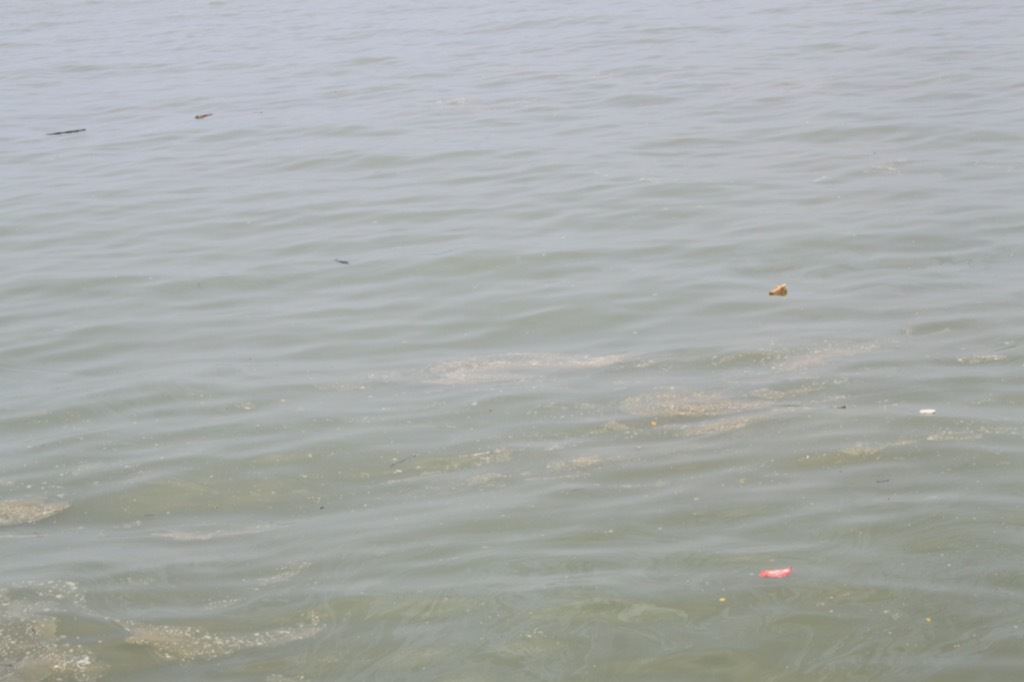organic: (36, 121, 101, 144), (376, 446, 430, 472), (322, 249, 359, 272), (186, 103, 223, 126), (869, 469, 899, 492), (310, 497, 335, 519), (828, 396, 854, 416)
plastic: (758, 271, 801, 310), (749, 562, 801, 589), (913, 398, 945, 424)
